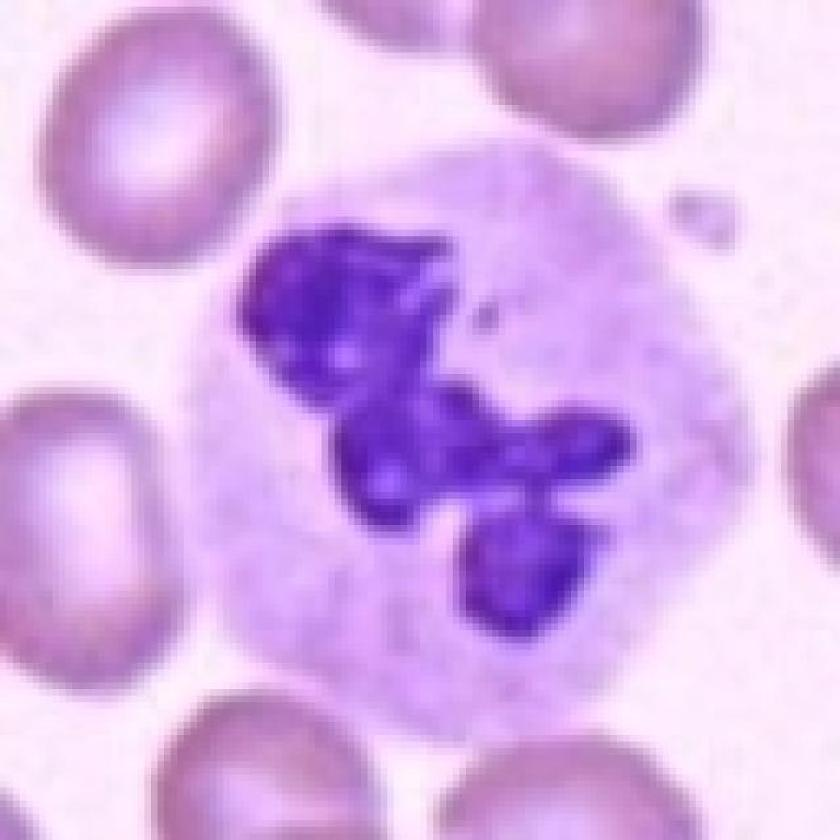neutrophil: (168, 135, 756, 752)
